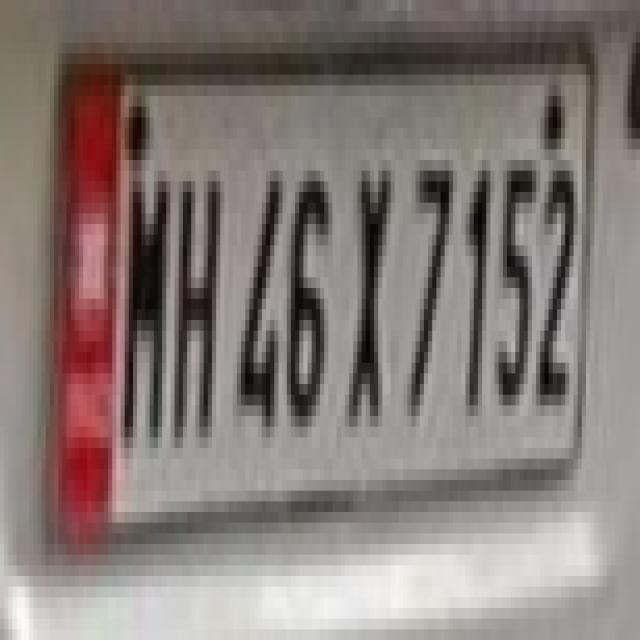1: (460, 144, 493, 426)
4: (233, 140, 284, 452)
5: (496, 136, 536, 438)
6: (288, 150, 332, 450)
7: (401, 126, 458, 446)
H: (171, 164, 222, 454)
M: (119, 160, 169, 452)
X: (347, 132, 388, 444)
